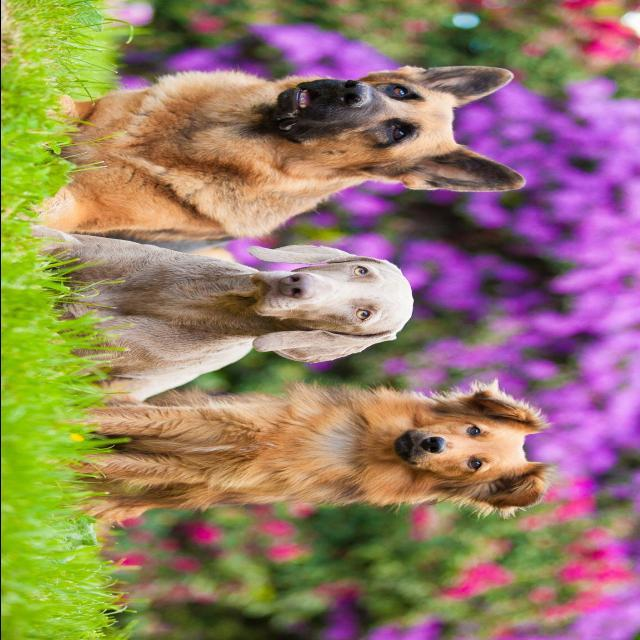Dogs: (24, 65, 524, 254), (44, 381, 548, 549), (18, 228, 418, 406)
